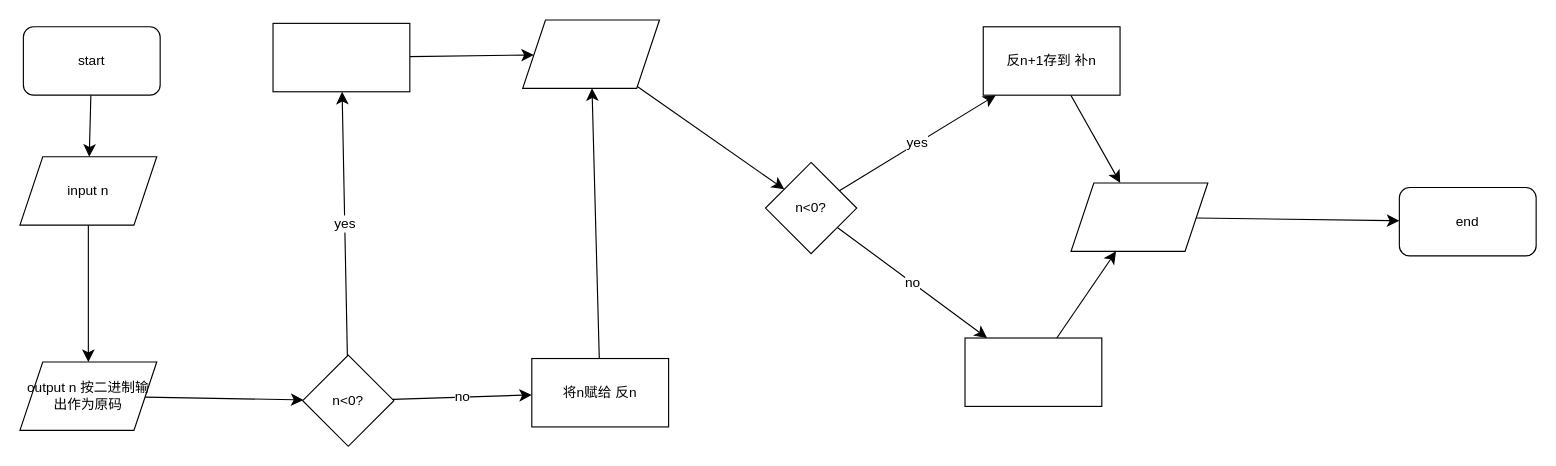
The diagram is 1556 pixels wide and 466 high, and some of its shapes have lost their labels. The centre of each missing label's shape, as x and y in pixels:
"反n 按二进制输出作为反码" belongs at point (590, 53).
"取绝对值,按位取反,将符号位设置为1,结果储存到 反n" belongs at point (341, 57).
"补n 按二进制输出作为补码" belongs at point (1139, 216).
"补n=反n" belongs at point (1033, 371).
